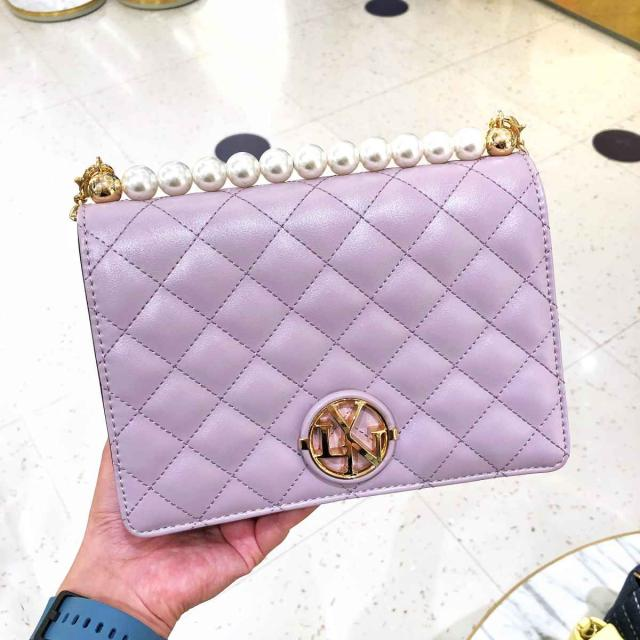Handbag: (78, 125, 576, 535)
